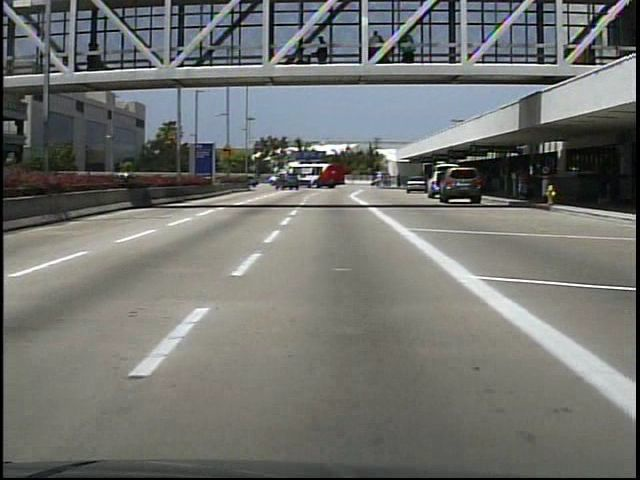person: (512, 162, 534, 203), (85, 40, 109, 75), (310, 33, 333, 68)
